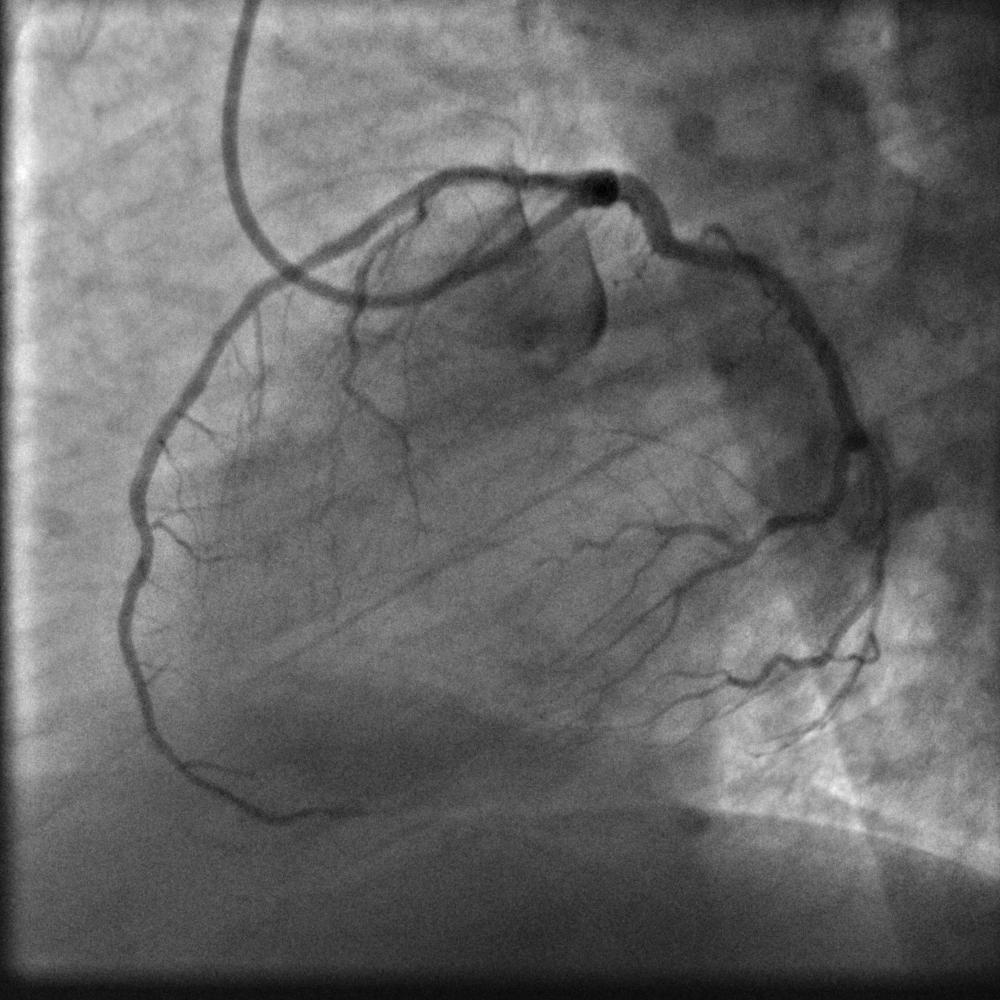Stenosis: (494, 164, 532, 188)
